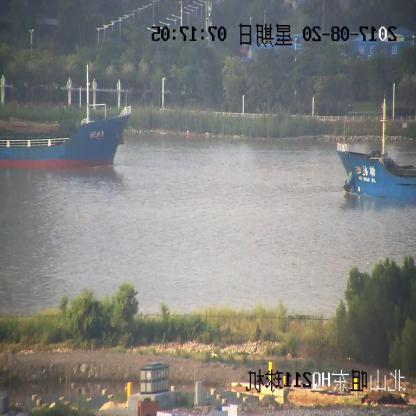Bulk Carrier: (1, 68, 130, 173), (334, 104, 416, 203)
